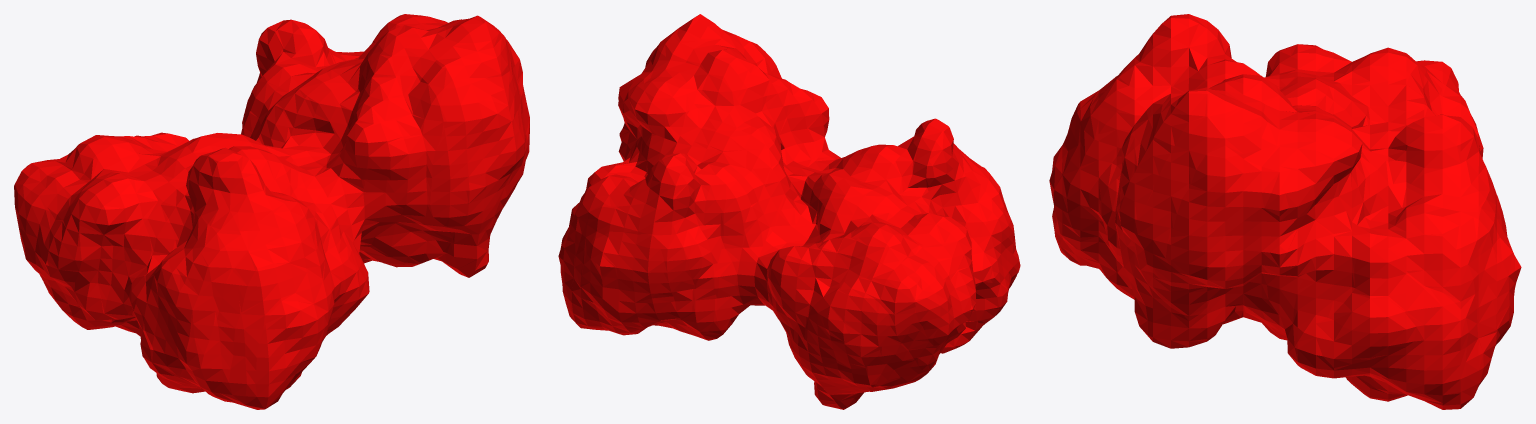
Rendered from aroG_coarse.dae.
3 renders of one model, left to right at view 1: azimuth 30°, elevation 25°; view 2: azimuth 150°, elevation 25°; view 3: azimuth 270°, elevation 25°, orthographic. The views are drawn at different scales.
Visible parts, largest first — view 1: aroG; view 2: aroG; view 3: aroG.
Boxes of the visible parts, x1,y1,x2,y2 form: aroG: [14, 14, 529, 409]; aroG: [558, 14, 1020, 409]; aroG: [1049, 14, 1521, 409].
Bounding box in the file's own units: 110 × 80.78 × 91.69.
